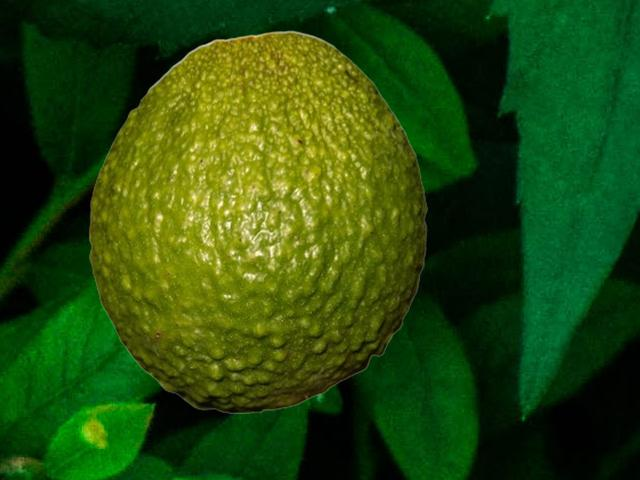avocado: (88, 30, 426, 412)
